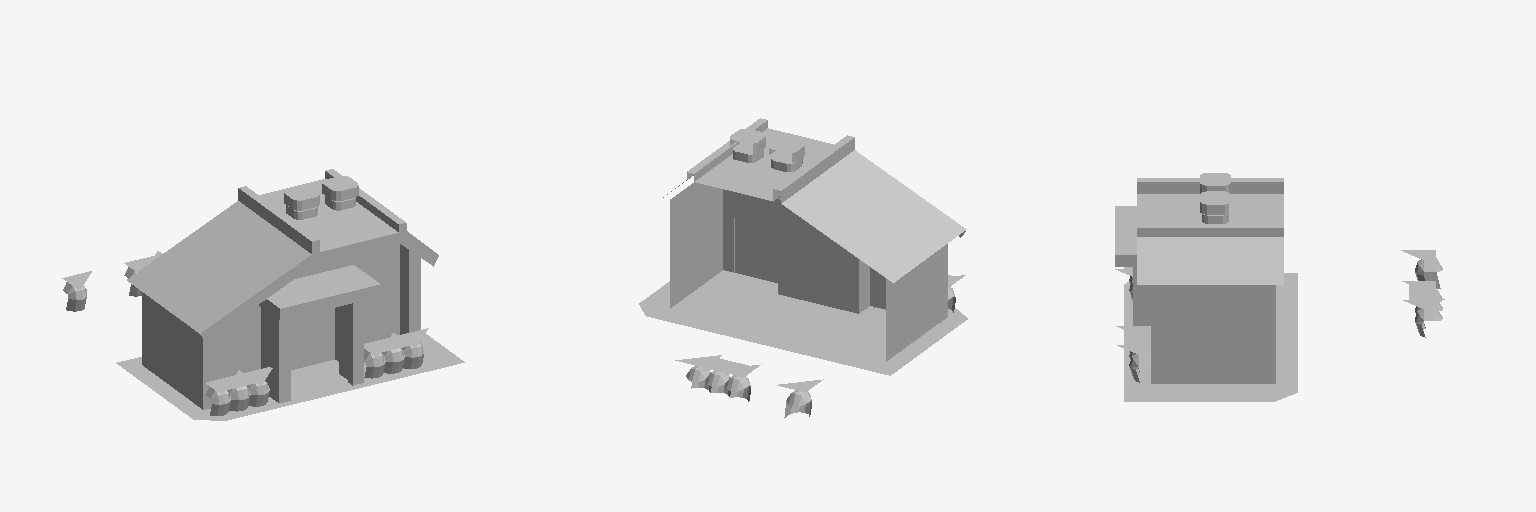
File: Trainer House.obj
3 views of the same model, side by side, from view 1: azimuth 30°, elevation 25°; view 2: azimuth 150°, elevation 25°; view 3: azimuth 270°, elevation 25° (orthographic).
Visible parts, largest first — view 1: polygon2, polygon3, polygon0, polygon1; view 2: polygon2, polygon0, polygon3; view 3: polygon2, polygon0, polygon3.
Part boxes in pixels (x1,y1,x2,y2): polygon2: (127, 169, 438, 409); polygon3: (62, 251, 428, 415); polygon0: (116, 333, 464, 420); polygon1: (223, 297, 392, 370); polygon2: (663, 118, 966, 361); polygon0: (639, 270, 967, 375); polygon3: (675, 197, 965, 417); polygon2: (1115, 173, 1283, 383); polygon0: (1124, 273, 1297, 401); polygon3: (1115, 250, 1444, 382).
Size of the model in its own units: 136 by 82.5 by 148.